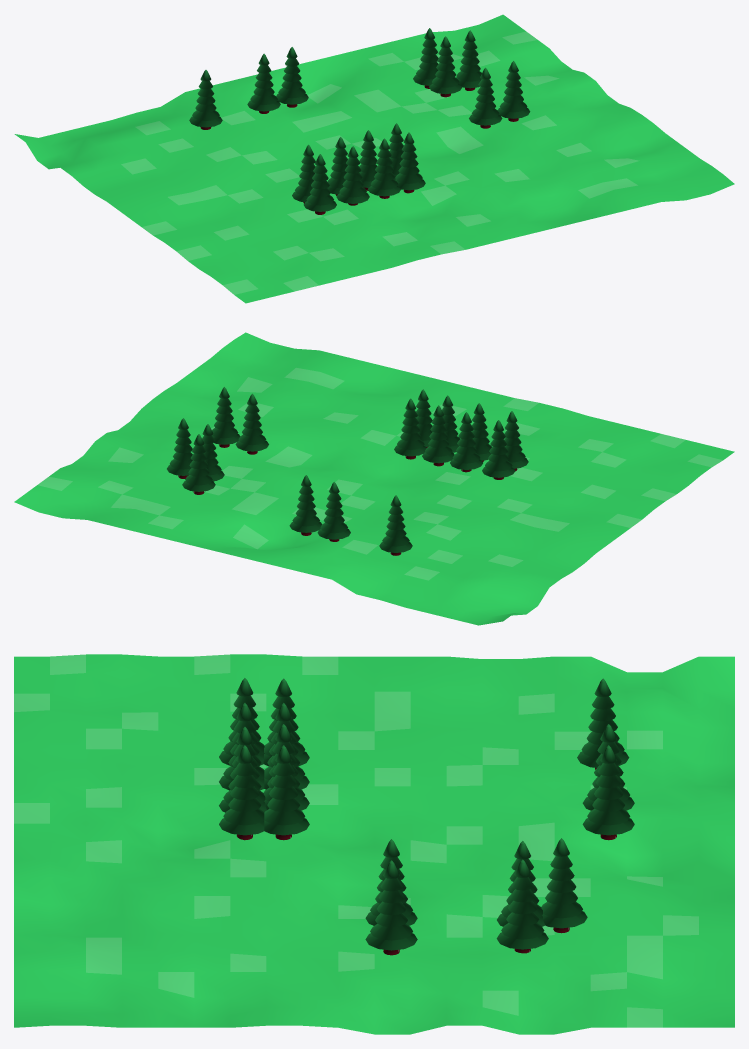
Rendered from terrain.fbx.
The picture shows the model from 3 angles, top to bottom: view 1: azimuth 30°, elevation 25°; view 2: azimuth 150°, elevation 25°; view 3: azimuth 270°, elevation 25°; orthographic projection. The views are drawn at different scales.
Visible parts, largest first — view 1: Plane001; view 2: Plane001; view 3: Plane001.
Boxes of the visible parts, box(x1,y1,x2,y2) form: Plane001: box(14, 14, 734, 303); Plane001: box(14, 332, 734, 625); Plane001: box(14, 654, 734, 1034).
Size of the model in its own units: 82.89 by 11.26 by 68.02.
2 materials, 2 textured.
